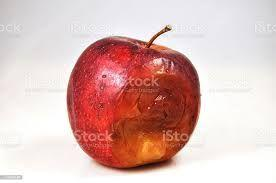Apple: (68, 34, 201, 169)
